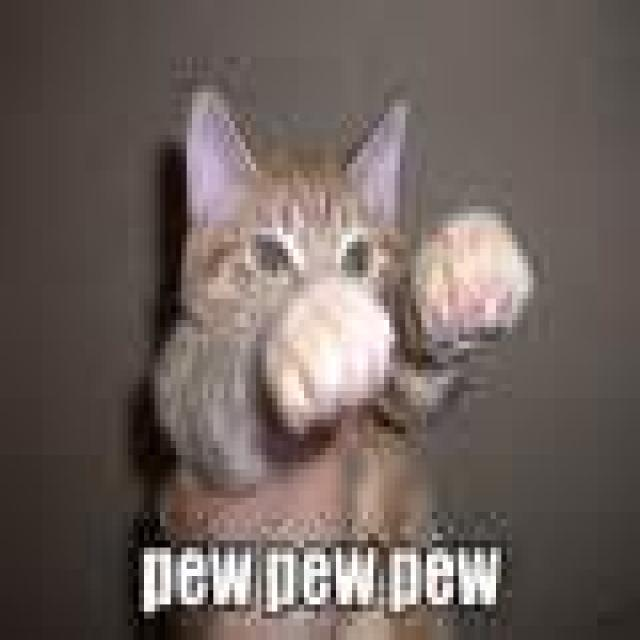animal: (156, 90, 533, 640)
